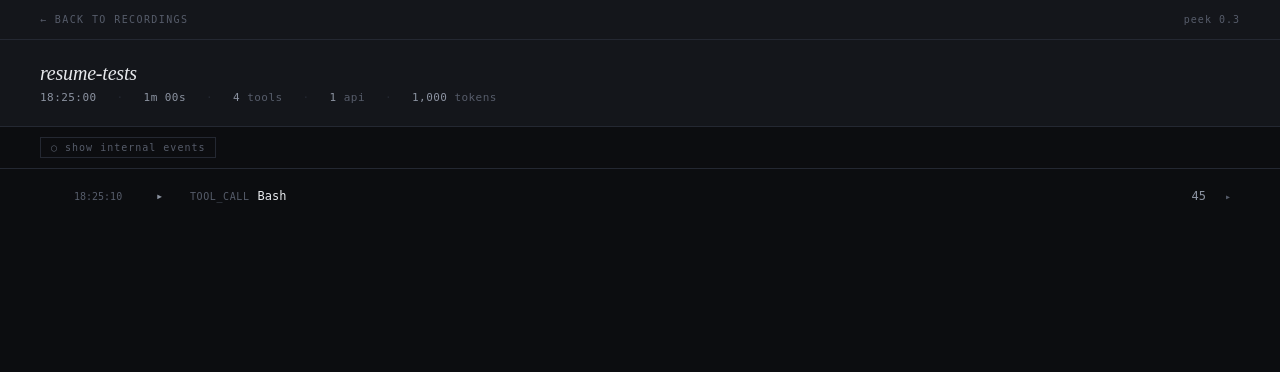
Test case: RecordingDetailPage — #16 row body is a click target, not just the chevron › a second click on the row body collapses the pane
Expected: the element with test id "recording-detail-header" shows "resume-tests", [40,62,137,84]
Click the button with test id "tool-row-span-bash-click" at [98, 196], box [40,185,1240,207]
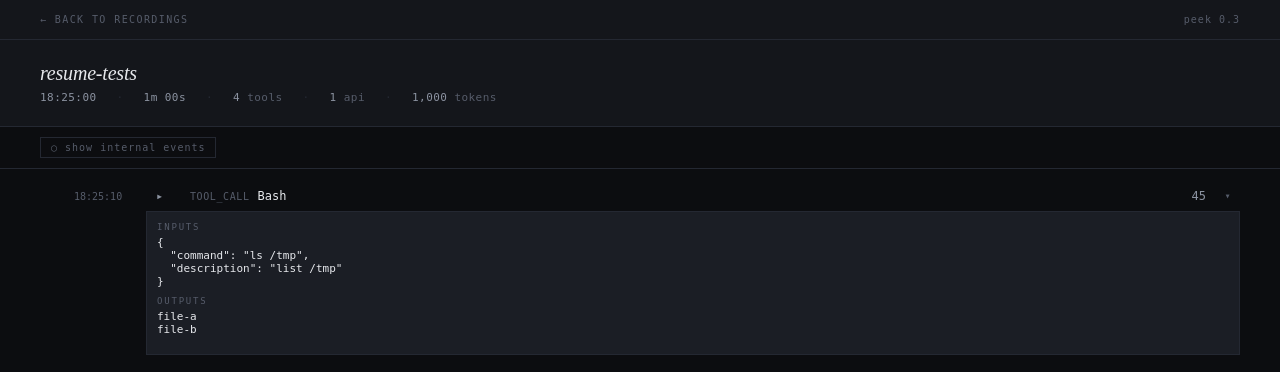
Expected: the element with test id "tool-row-body-span-bash-click" is shown, [146,211,1240,355]
Click the button with test id "tool-row-span-bash-click" at [640, 270], box [40,185,1240,355]
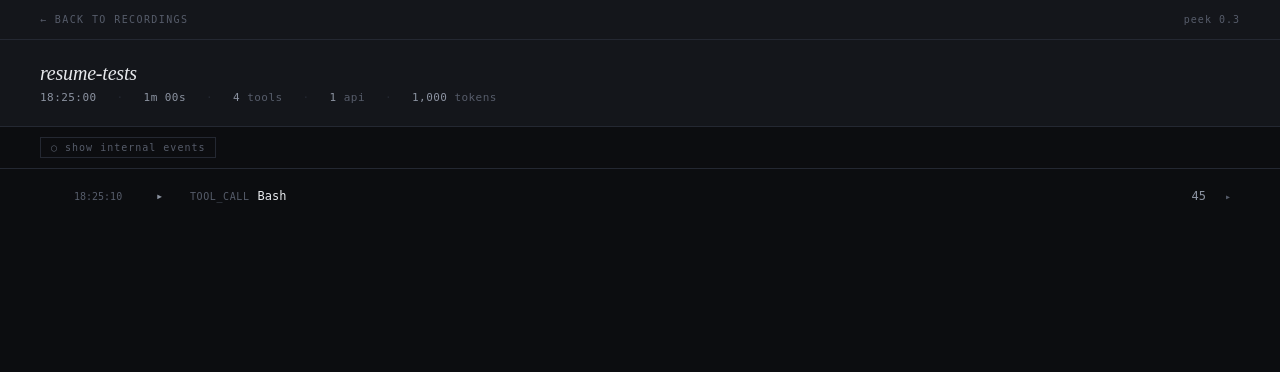
Expected: the element with test id "tool-row-body-span-bash-click" is gone
